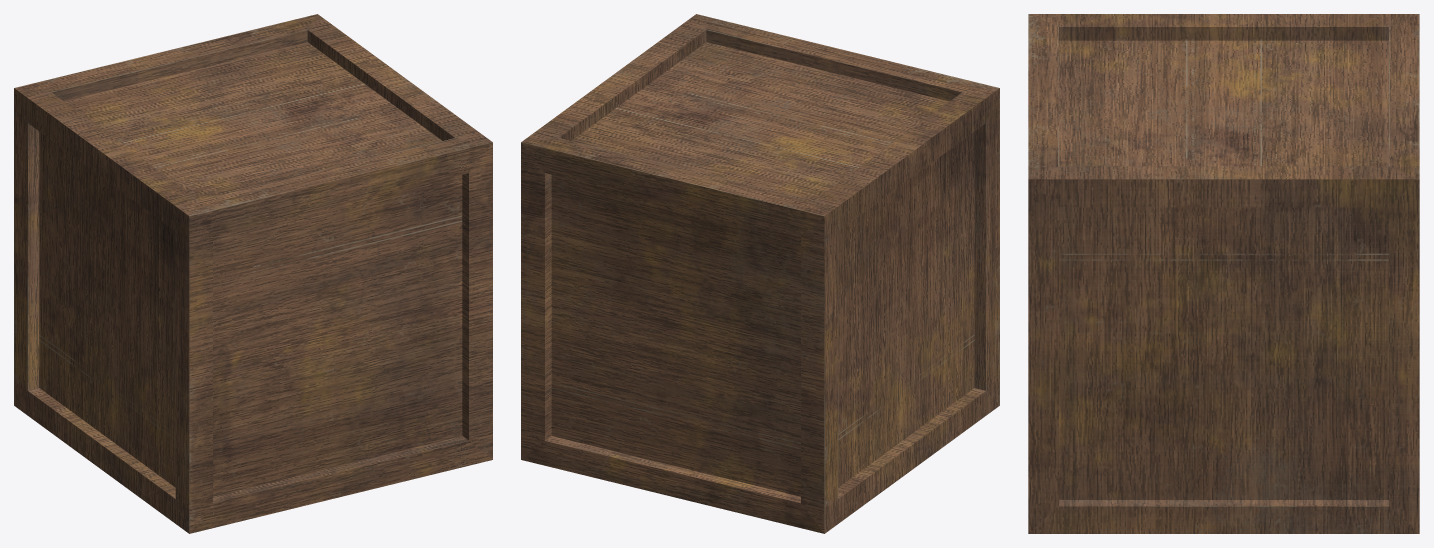
3 views of the same model, side by side, from view 1: azimuth 30°, elevation 25°; view 2: azimuth 150°, elevation 25°; view 3: azimuth 270°, elevation 25° (orthographic). The views are drawn at different scales.
Visible parts, largest first — view 1: box; view 2: box; view 3: box.
Part boxes in pixels (x1=…): box: x1=14, y1=14, x2=492, y2=533; box: x1=521, y1=14, x2=999, y2=533; box: x1=1028, y1=14, x2=1419, y2=533.
Size of the model in its own units: 0.5115 by 0.5115 by 0.5115.
1 material, 1 textured.
